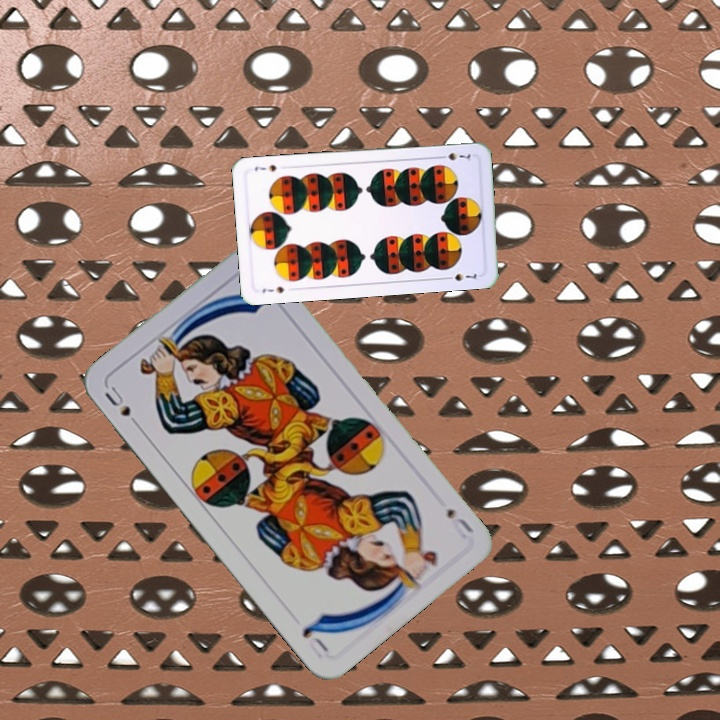S7: (434, 148, 473, 163), (258, 282, 287, 296)
SU: (100, 382, 145, 432), (442, 504, 477, 542)
